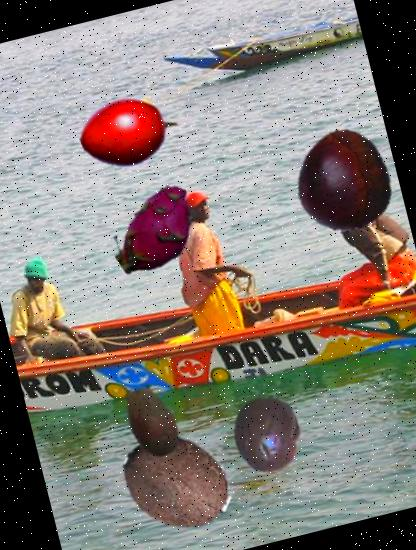Chestnut: (281, 118, 405, 242)
Cocos: (109, 414, 245, 550)
Passion: (220, 388, 316, 484)
Pitahaya: (98, 174, 216, 292)
Potato: (105, 373, 200, 468)
Tamarillo: (70, 73, 188, 191)
